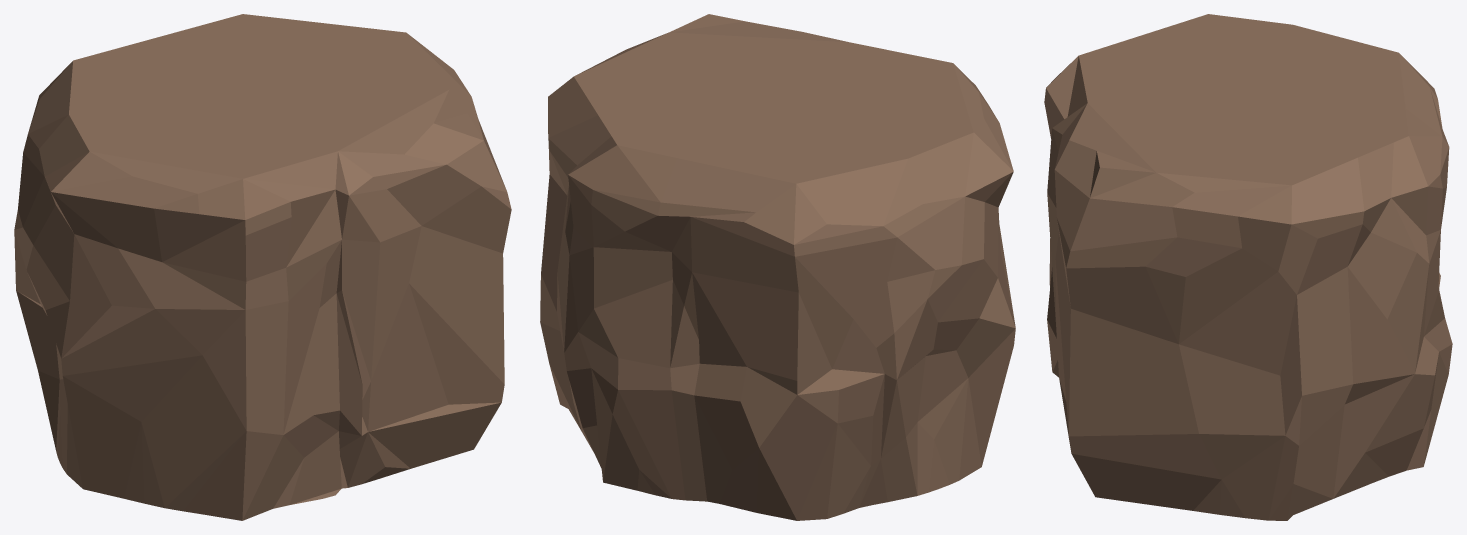
The model's file is dark_small_rock.fbx.
3 renders of one model, left to right at view 1: azimuth 30°, elevation 25°; view 2: azimuth 150°, elevation 25°; view 3: azimuth 270°, elevation 25°, orthographic. The views are drawn at different scales.
Visible parts, largest first — view 1: dark_small_rock; view 2: dark_small_rock; view 3: dark_small_rock.
Boxes of the visible parts, bbox=[...] form: dark_small_rock: bbox=[14, 14, 511, 520]; dark_small_rock: bbox=[540, 14, 1015, 520]; dark_small_rock: bbox=[1044, 14, 1452, 520].
Size of the model in its own units: 2.95 by 2.2 by 2.48.
